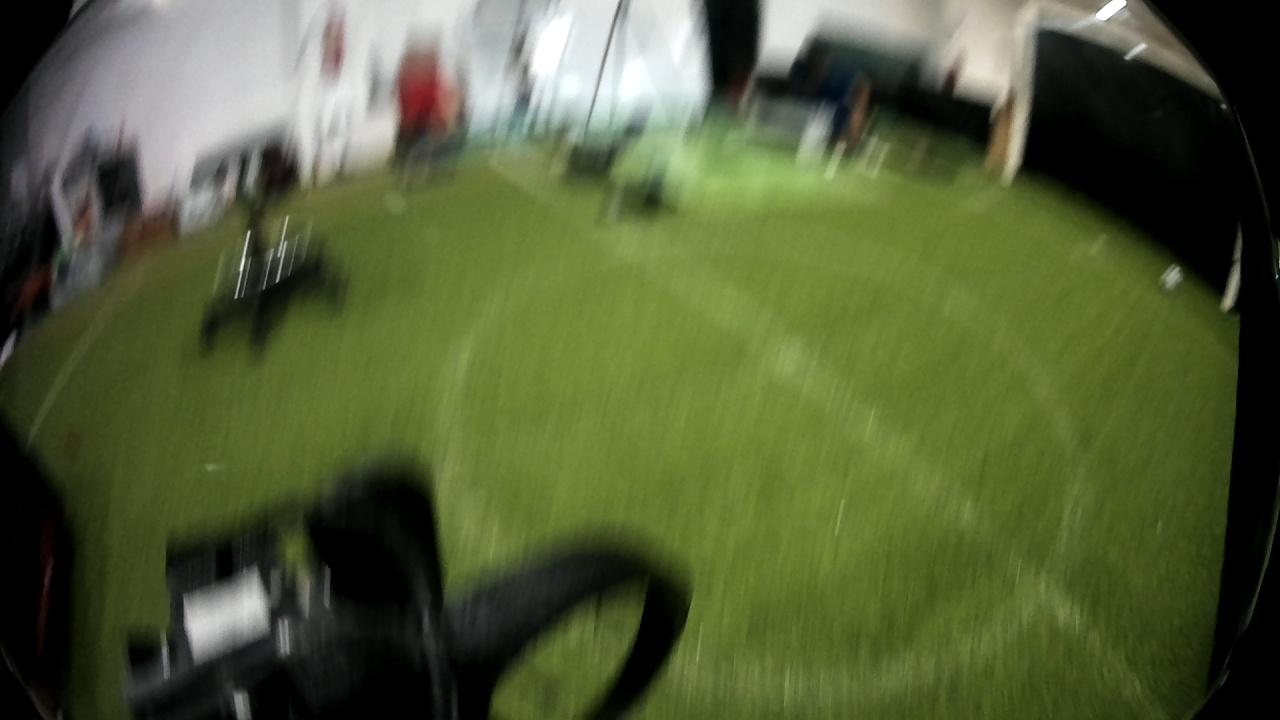ball: (1156, 262, 1188, 295)
